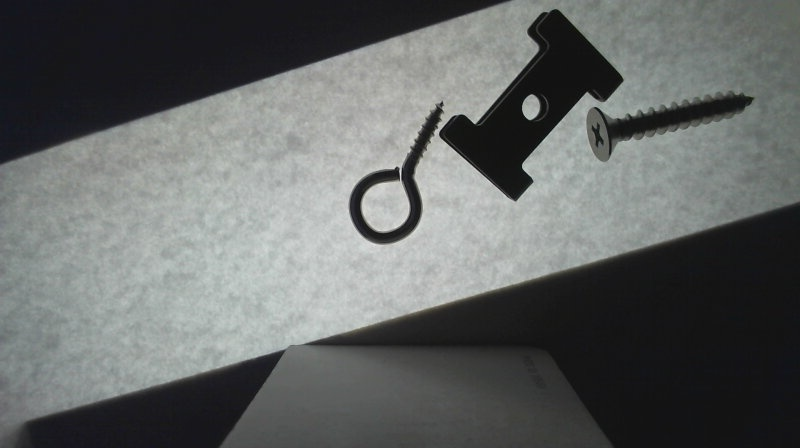O001: (346, 98, 445, 247)
O002: (437, 7, 626, 203)
S001: (581, 88, 756, 166)
